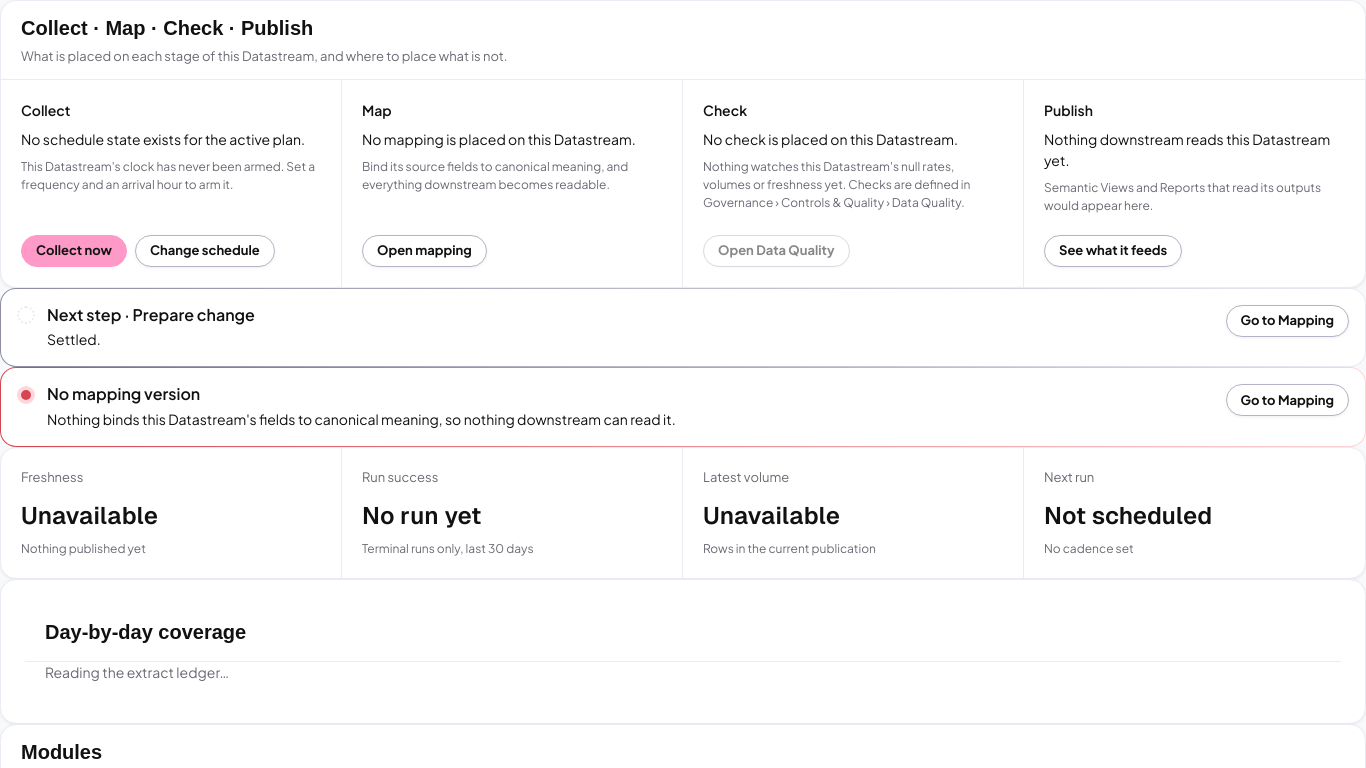
Test: Collect now › names the connector, the account and the window BEFORE anything is spent
What coordinates should you click on to do the following:
click the button with test id "stage-collect-now"
I would click on:
 (74, 250)
Its box is [21,234,127,266].
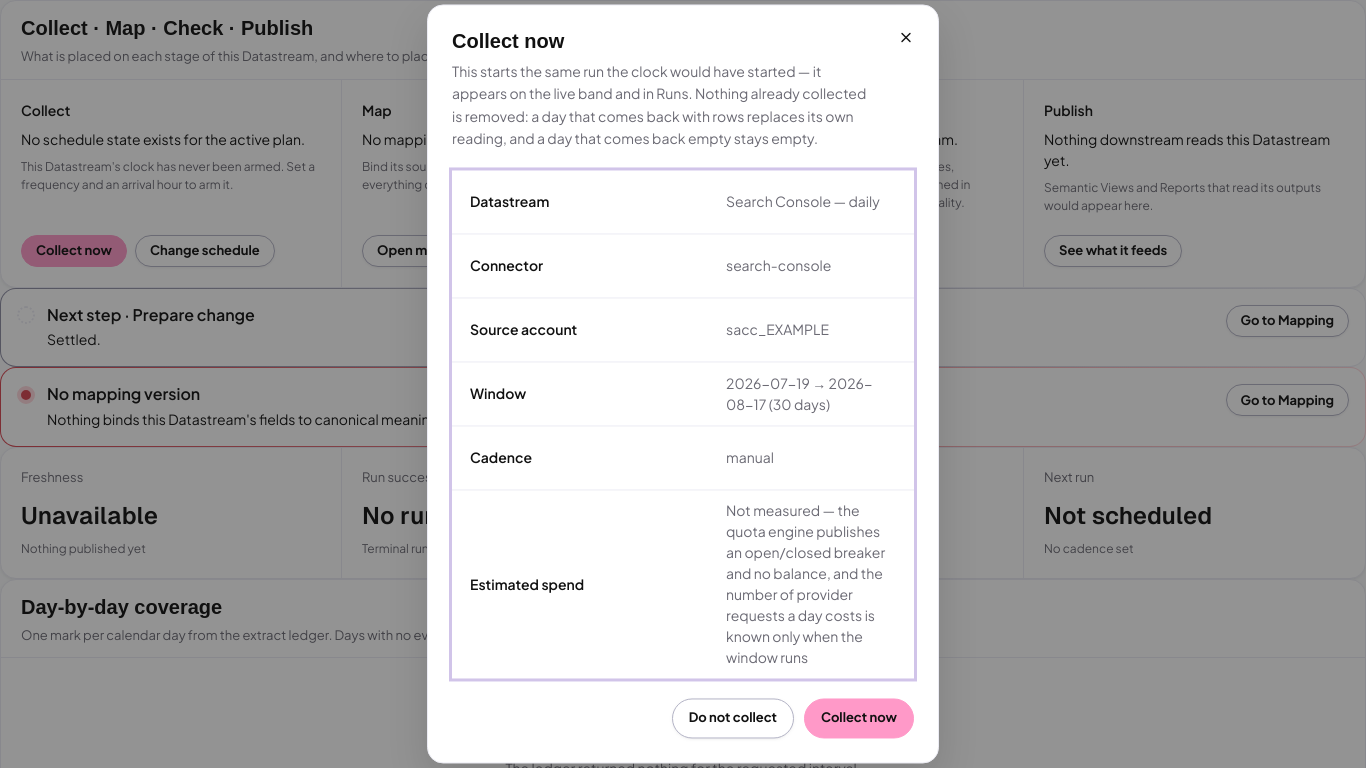
Now the dialog with test id "collect-now-confirm" shows "search-console", box [726,256,831,274]
Now the dialog with test id "collect-now-confirm" shows "sacc_EXAMPLE", box [726,320,829,338]
Now the dialog with test id "collect-now-confirm" shows "2026-07-19 → 2026-08-17", box [726,374,872,413]
